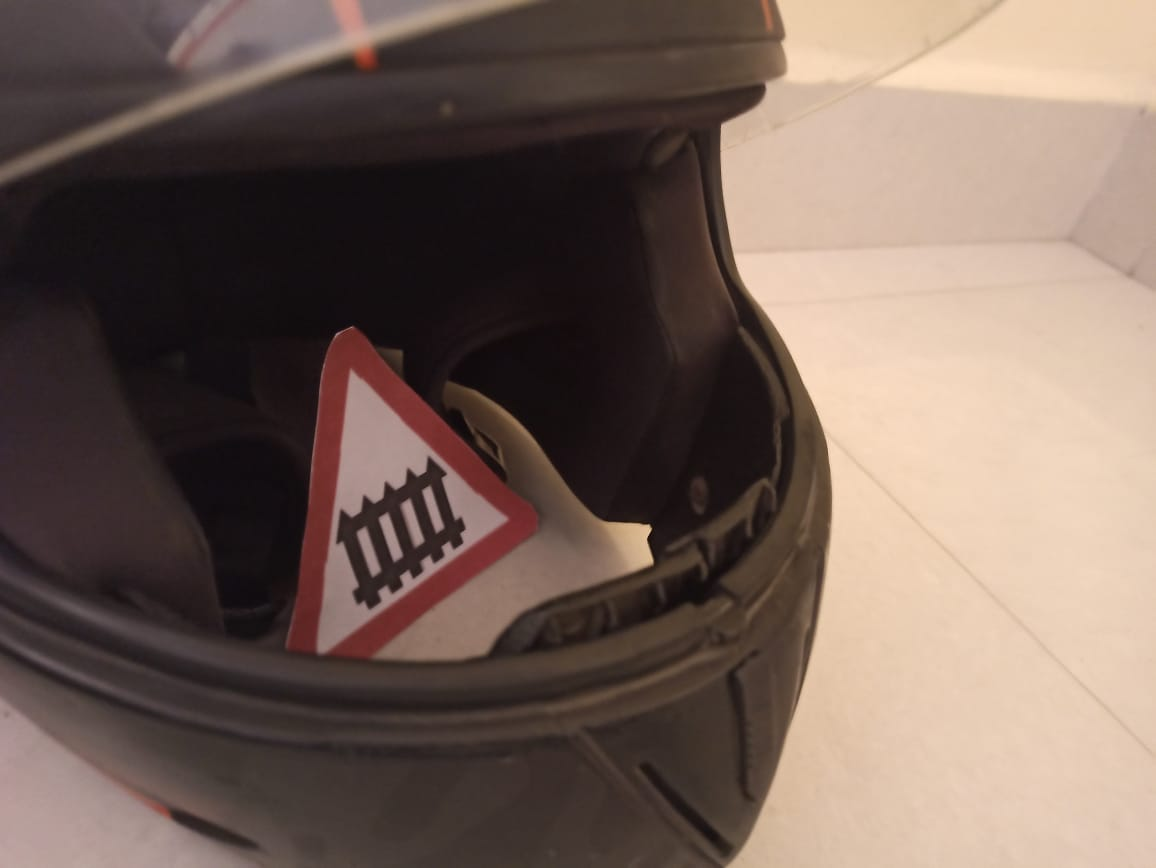GUARDED LEVEL CROSSING: (274, 328, 535, 676)
